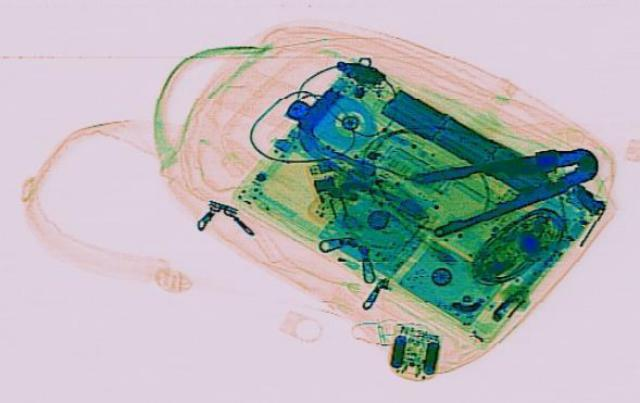Pliers: (393, 134, 621, 235)
